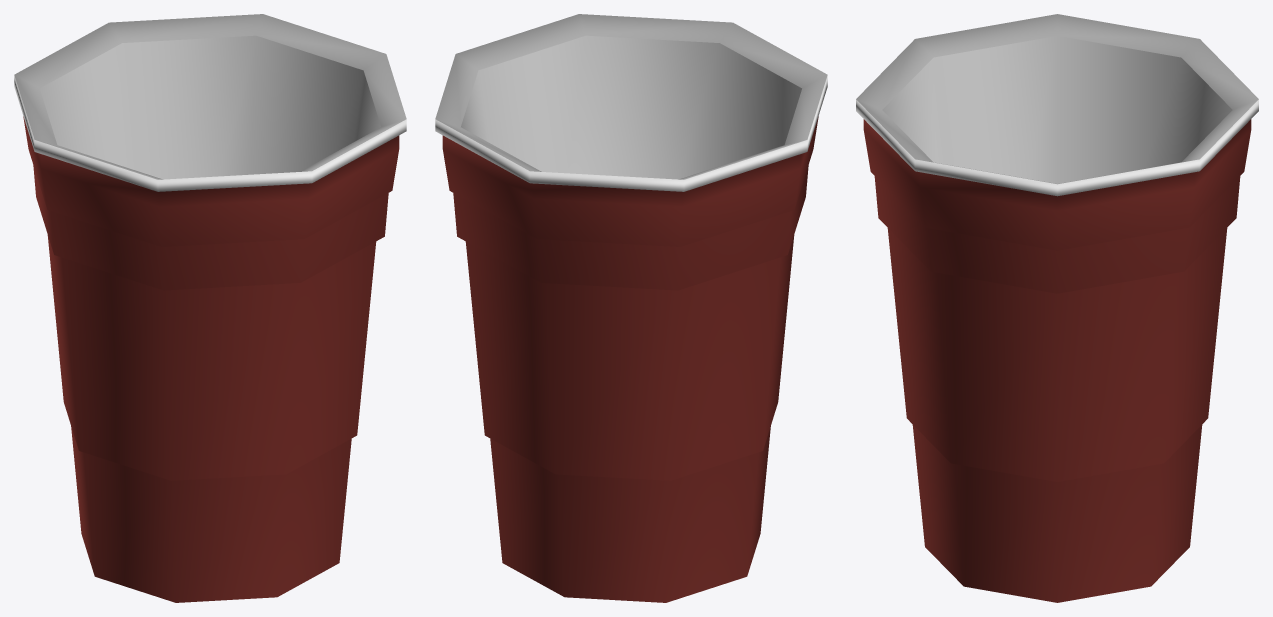
File: plastic_cup.fbx
3 renders of one model, left to right at view 1: azimuth 30°, elevation 25°; view 2: azimuth 150°, elevation 25°; view 3: azimuth 270°, elevation 25°, orthographic.
Parts seen in each view (by area): view 1: Cup; view 2: Cup; view 3: Cup.
Part boxes in pixels (x1,y1,x2,y2): Cup: [14, 14, 406, 602]; Cup: [435, 14, 827, 602]; Cup: [856, 14, 1258, 602].
Bounding box in the file's own units: 8.91 × 10.93 × 8.91.
